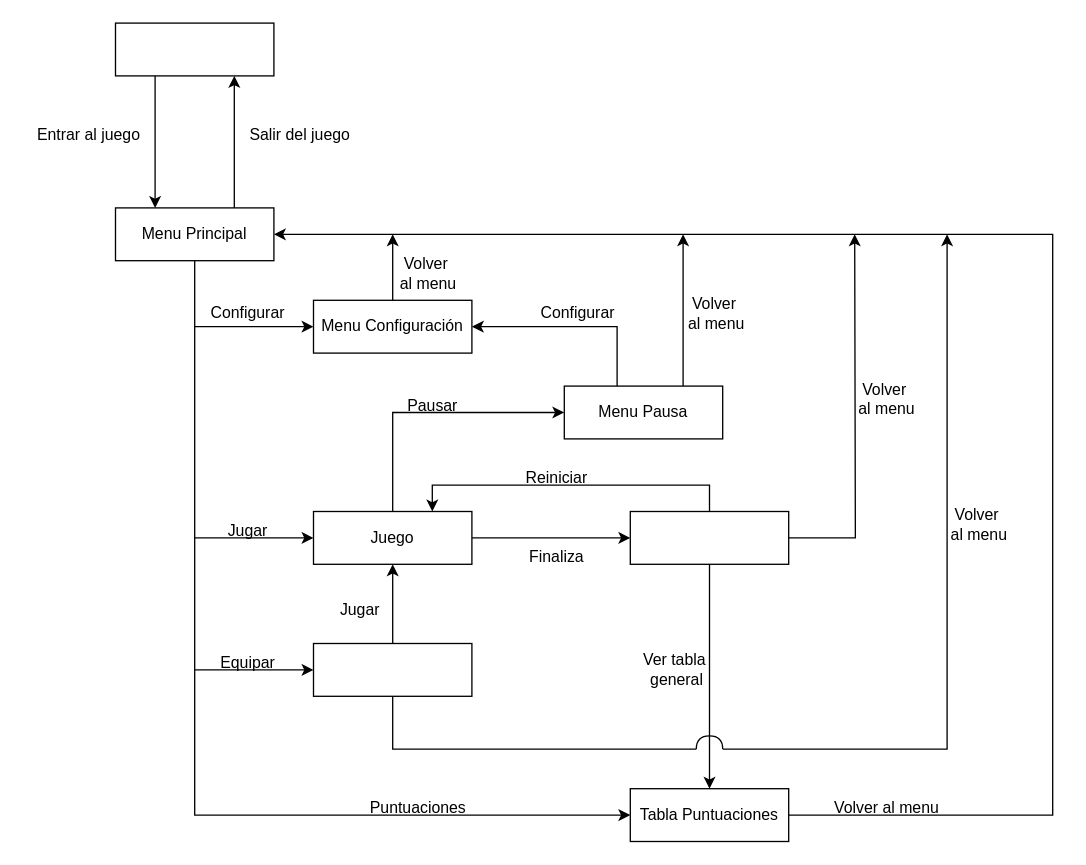
Some shapes in this 1086 by 865 pixel diagram are drawn without their labels. Here are the shapes that lost their labels. From the top down, the centre of each, then its label:
the point at 194,49: Sistema Operativo
the point at 709,537: Puntuacion partida
the point at 392,669: Menu Equipamiento
